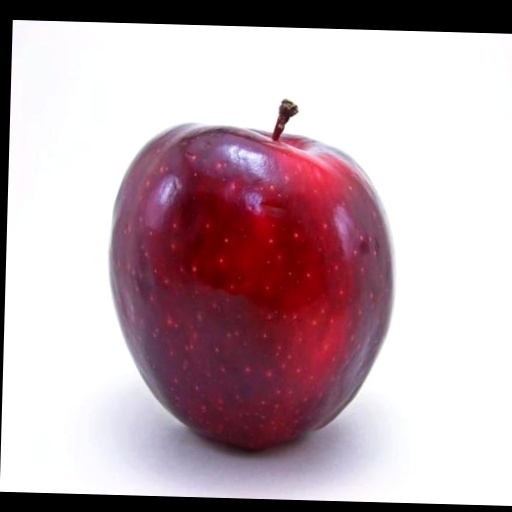fruit: (110, 101, 392, 449)
